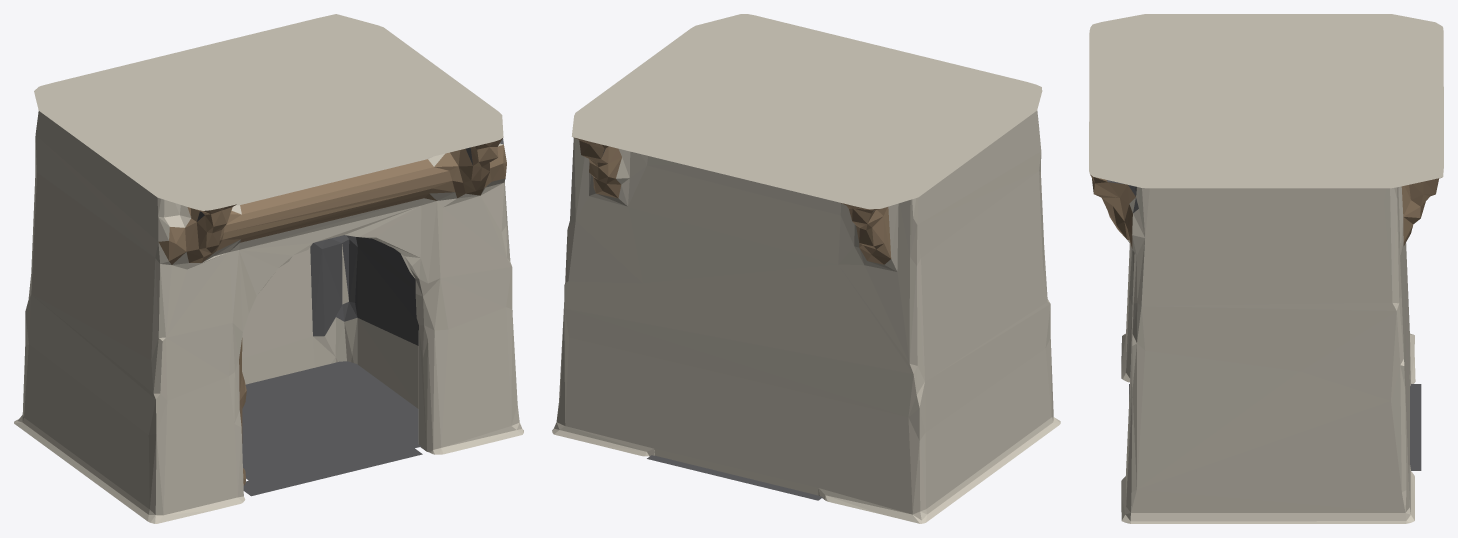
Rendered from etape-1.glb.
3 renders of one model, left to right at view 1: azimuth 30°, elevation 25°; view 2: azimuth 150°, elevation 25°; view 3: azimuth 270°, elevation 25°, orthographic. The views are drawn at different scales.
Parts seen in each view (by area): view 1: geometry_0; view 2: geometry_0; view 3: geometry_0.
Part boxes in pixels (bbox=[...]): geometry_0: bbox=[14, 14, 523, 523]; geometry_0: bbox=[552, 14, 1060, 523]; geometry_0: bbox=[1089, 14, 1443, 523].
Bounding box in the file's own units: 0.8159 × 0.6552 × 0.6429.
